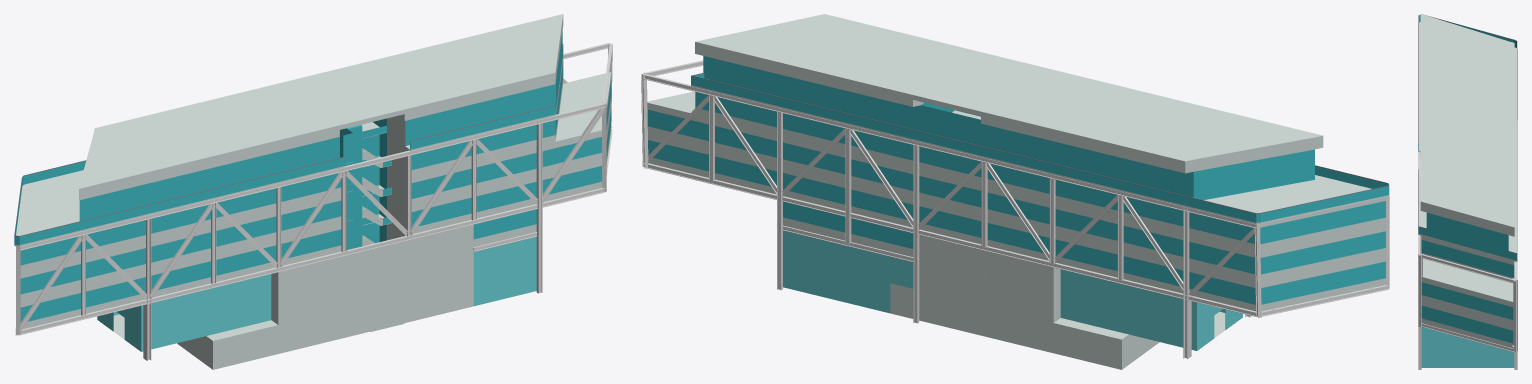
The model's file is CIA34.fbx.
3 renders of one model, left to right at view 1: azimuth 30°, elevation 25°; view 2: azimuth 150°, elevation 25°; view 3: azimuth 270°, elevation 25°, orthographic. The views are drawn at different scales.
Parts seen in each view (by area): view 1: Cube.017, Cube.004, Cube.010, Cube.018, Cube.005, Cube.033, Cube.040, Cube.042, Cube.041, Cube.043, Cube.072, Cube.047 (+2 smaller); view 2: Cube.017, Cube.003, Cube.009, Cube.023, Cube.002, Cube.025, Cube.024, Cube.001, Cube.037, Cube.032, Cube.031, Cube.044 (+4 smaller); view 3: Cube.017, Cube.028, Cube.007, Cube.027, Cube.010, Cube.019, Cube.009, Cube.018.
Boxes of the visible parts, x1=… form: Cube.017: x1=14, y1=14, x2=611, y2=369; Cube.004: x1=19, y1=188, x2=604, y2=335; Cube.010: x1=19, y1=103, x2=605, y2=250; Cube.018: x1=536, y1=123, x2=542, y2=293; Cube.005: x1=143, y1=219, x2=151, y2=360; Cube.033: x1=542, y1=108, x2=604, y2=202; Cube.040: x1=18, y1=236, x2=84, y2=330; Cube.042: x1=279, y1=172, x2=344, y2=266; Cube.041: x1=148, y1=204, x2=214, y2=298; Cube.043: x1=409, y1=140, x2=474, y2=235; Cube.072: x1=344, y1=171, x2=409, y2=236; Cube.047: x1=474, y1=139, x2=537, y2=204; Cube.017: x1=647, y1=14, x2=1389, y2=369; Cube.003: x1=643, y1=163, x2=1257, y2=316; Cube.009: x1=643, y1=74, x2=1256, y2=228; Cube.023: x1=913, y1=144, x2=919, y2=323; Cube.002: x1=1183, y1=207, x2=1191, y2=359; Cube.025: x1=777, y1=111, x2=782, y2=290; Cube.024: x1=845, y1=127, x2=851, y2=243; Cube.001: x1=1261, y1=285, x2=1389, y2=316; Cube.037: x1=782, y1=225, x2=913, y2=261; Cube.032: x1=850, y1=130, x2=913, y2=227; Cube.031: x1=986, y1=163, x2=1049, y2=261; Cube.044: x1=714, y1=96, x2=776, y2=194; Cube.017: x1=1418, y1=14, x2=1517, y2=367; Cube.028: x1=1420, y1=254, x2=1514, y2=283; Cube.007: x1=1421, y1=323, x2=1514, y2=352; Cube.027: x1=1513, y1=280, x2=1517, y2=352; Cube.010: x1=1418, y1=24, x2=1420, y2=257; Cube.019: x1=1418, y1=254, x2=1422, y2=326; Cube.009: x1=1515, y1=49, x2=1517, y2=283; Cube.018: x1=1418, y1=235, x2=1421, y2=369.
Size of the model in its own units: 10088 by 3178 by 1648.
